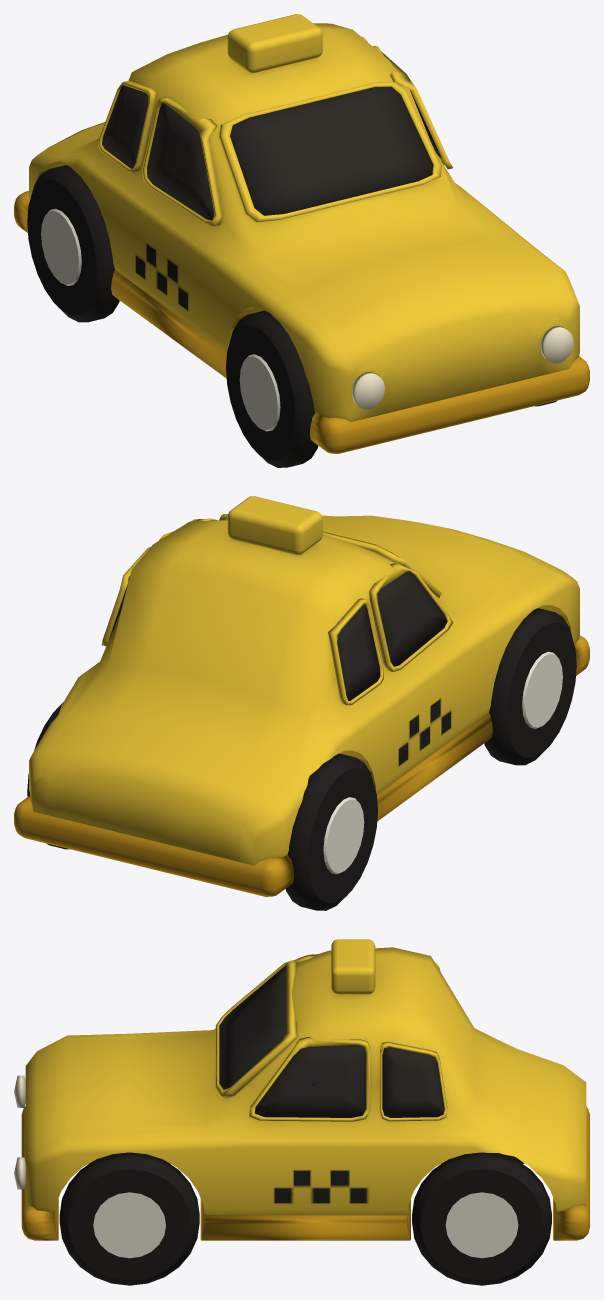
Rendered from car-taxi.fbx.
3 renders of one model, top to bottom at view 1: azimuth 30°, elevation 25°; view 2: azimuth 150°, elevation 25°; view 3: azimuth 270°, elevation 25°, orthographic. The views are drawn at different scales.
Parts seen in each view (by area): view 1: car-taxi; view 2: car-taxi; view 3: car-taxi.
Part boxes in pixels (bbox=[...]): car-taxi: bbox=[14, 14, 589, 467]; car-taxi: bbox=[14, 496, 589, 910]; car-taxi: bbox=[14, 939, 589, 1285].
Bounding box in the file's own units: 782 × 815 × 1550.
Materials: 1 (1 with a texture image).
